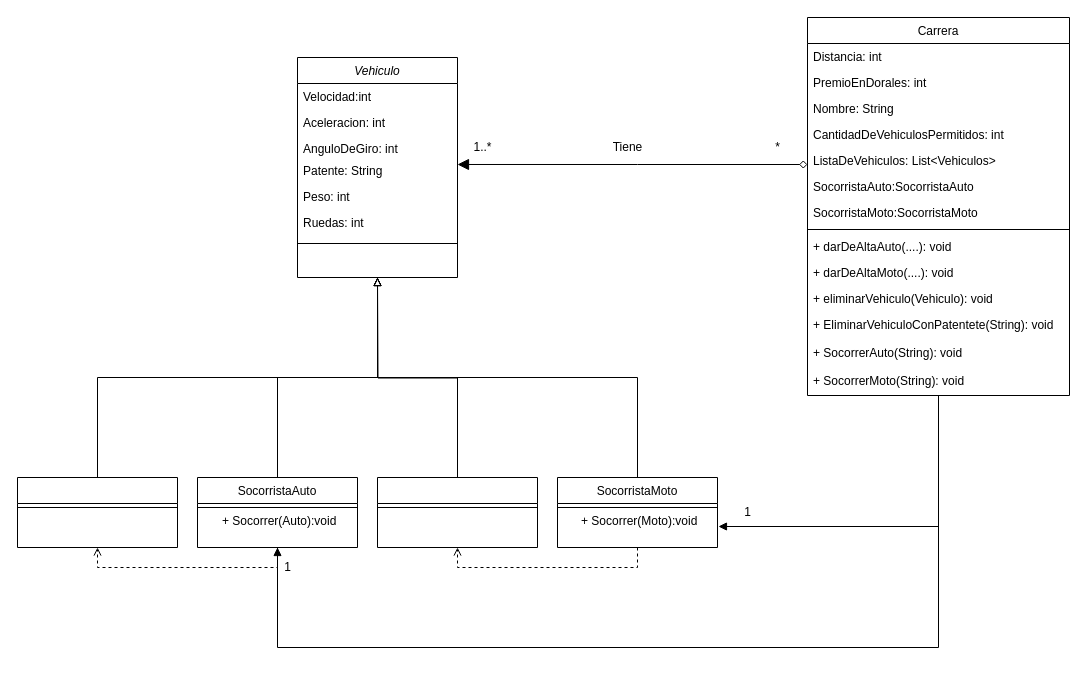
The diagram is 1087 pixels wide and 673 high, and some of its shapes have lost their labels. The shapes that lost their labels are listed below. From the top down, each one's centre as x and y in pixels, then its label:
pixel 97 512: Auto
pixel 457 512: Moto
